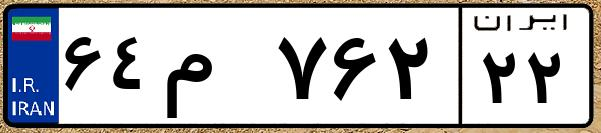2: (385, 28, 445, 110), (475, 38, 525, 113), (525, 38, 570, 115)
4: (110, 28, 158, 98)
6: (330, 28, 385, 110), (57, 26, 110, 100)
7: (270, 28, 330, 110)
م: (158, 20, 270, 120)
